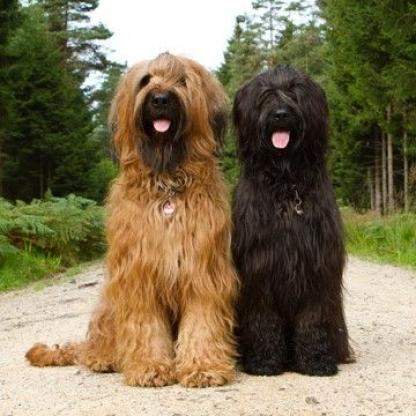Briard: (67, 28, 234, 384), (215, 67, 367, 393)
